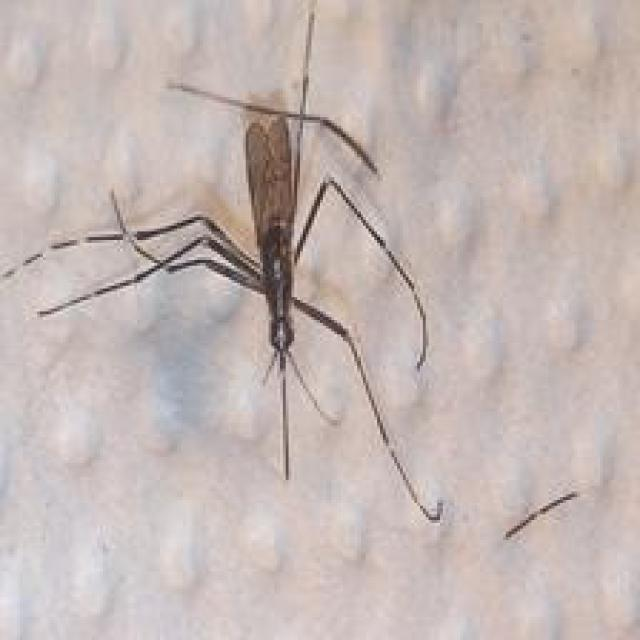Aedes albopictus: (0, 2, 446, 524)
